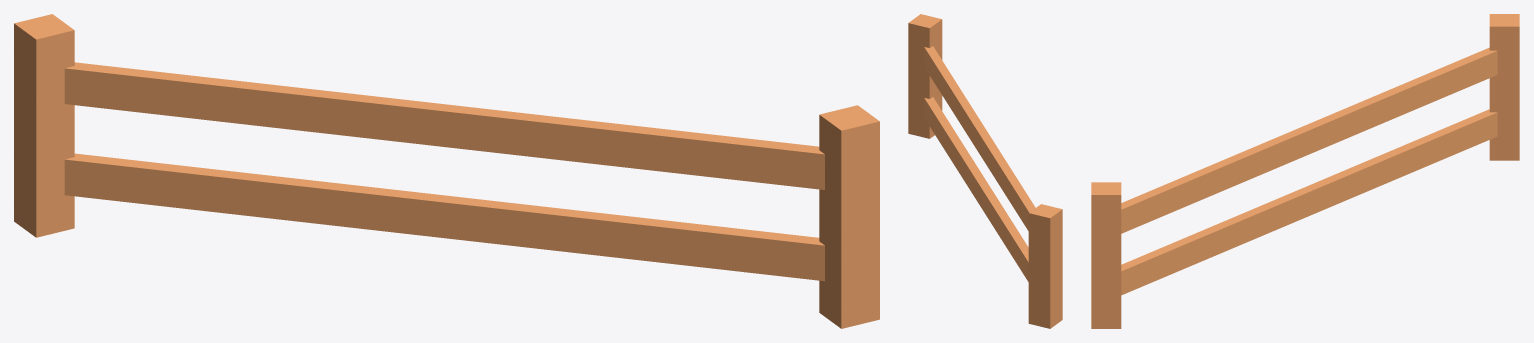
The model's file is fence_diagonal.obj.
3 views of the same model, side by side, from view 1: azimuth 30°, elevation 25°; view 2: azimuth 150°, elevation 25°; view 3: azimuth 270°, elevation 25° (orthographic). The views are drawn at different scales.
Parts seen in each view (by area): view 1: fence_diagonal; view 2: fence_diagonal; view 3: fence_diagonal.
Part boxes in pixels (box(x1,y1,x2,y2)): fence_diagonal: box(14, 14, 879, 328); fence_diagonal: box(908, 14, 1062, 328); fence_diagonal: box(1091, 14, 1519, 328).
Size of the model in its own units: 10 by 3.45 by 10.
